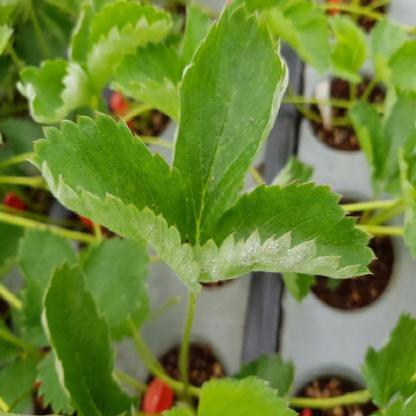Strawberry_Powdery_Mildew_Leaf: (24, 110, 203, 294), (171, 2, 292, 244), (192, 178, 378, 282)
